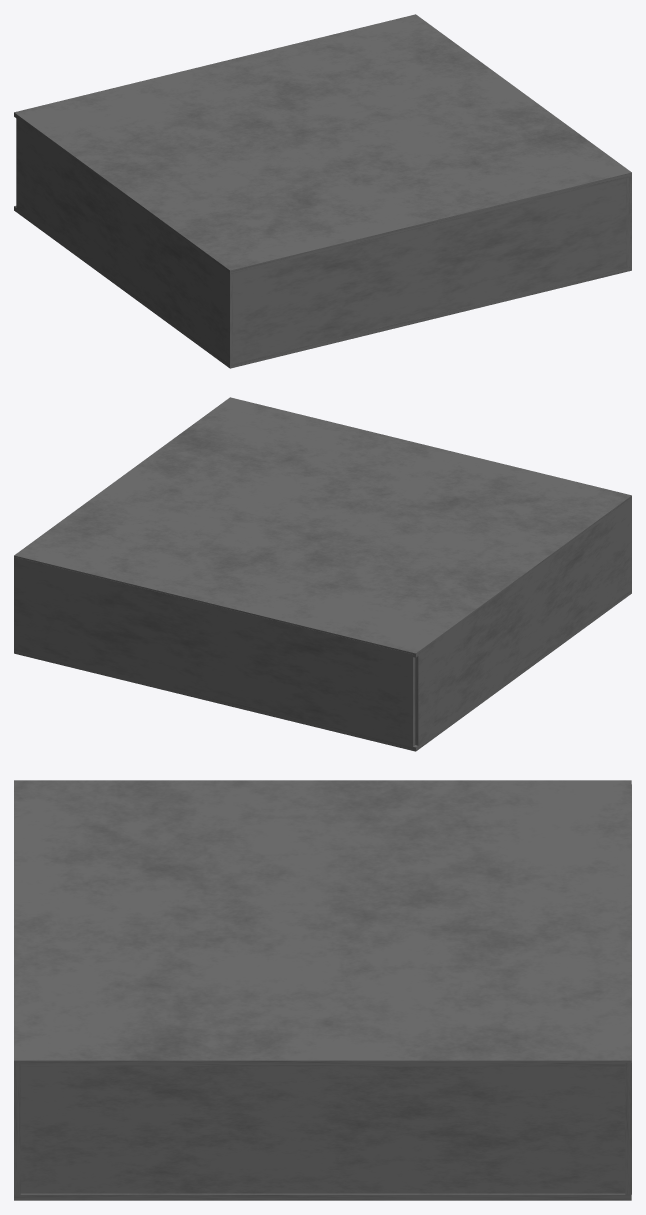
File: 05_modern_neglected_security.glb
The picture shows the model from 3 angles, top to bottom: view 1: azimuth 30°, elevation 25°; view 2: azimuth 150°, elevation 25°; view 3: azimuth 270°, elevation 25°; orthographic projection. The views are drawn at different scales.
Visible parts, largest first — view 1: Cube.128, Cube.124, Cube.295, Cube.116; view 2: Cube.128, Cube.122, Cube.295, Cube.116; view 3: Cube.128, Cube.123, Cube.116, Cube.122, Cube.124.
Boxes of the visible parts, bbox=[...] form: Cube.128: bbox=[14, 14, 631, 274]; Cube.124: bbox=[233, 177, 631, 363]; Cube.295: bbox=[16, 116, 232, 364]; Cube.116: bbox=[14, 206, 631, 368]; Cube.128: bbox=[14, 397, 631, 657]; Cube.122: bbox=[14, 557, 415, 746]; Cube.295: bbox=[415, 500, 631, 745]; Cube.116: bbox=[14, 589, 631, 751]; Cube.128: bbox=[14, 780, 631, 1066]; Cube.123: bbox=[20, 1066, 625, 1193]; Cube.116: bbox=[14, 1193, 631, 1200]; Cube.122: bbox=[625, 784, 631, 1194]; Cube.124: bbox=[14, 1062, 20, 1194].
Bounding box in the file's own units: 198 × 46.29 × 185.
5 materials, 1 textured.
